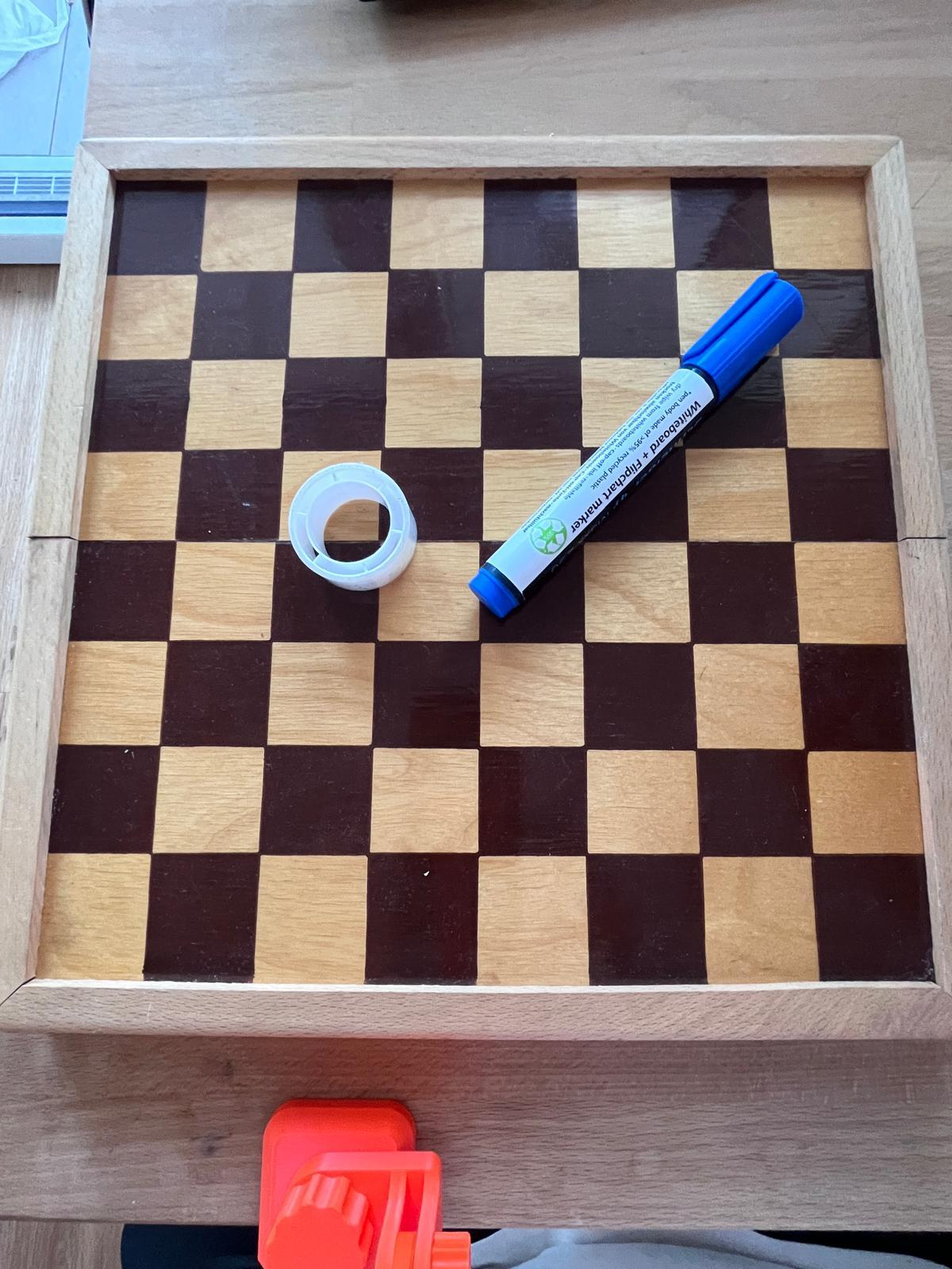marker: (457, 271, 801, 619)
tape: (279, 462, 419, 593)
